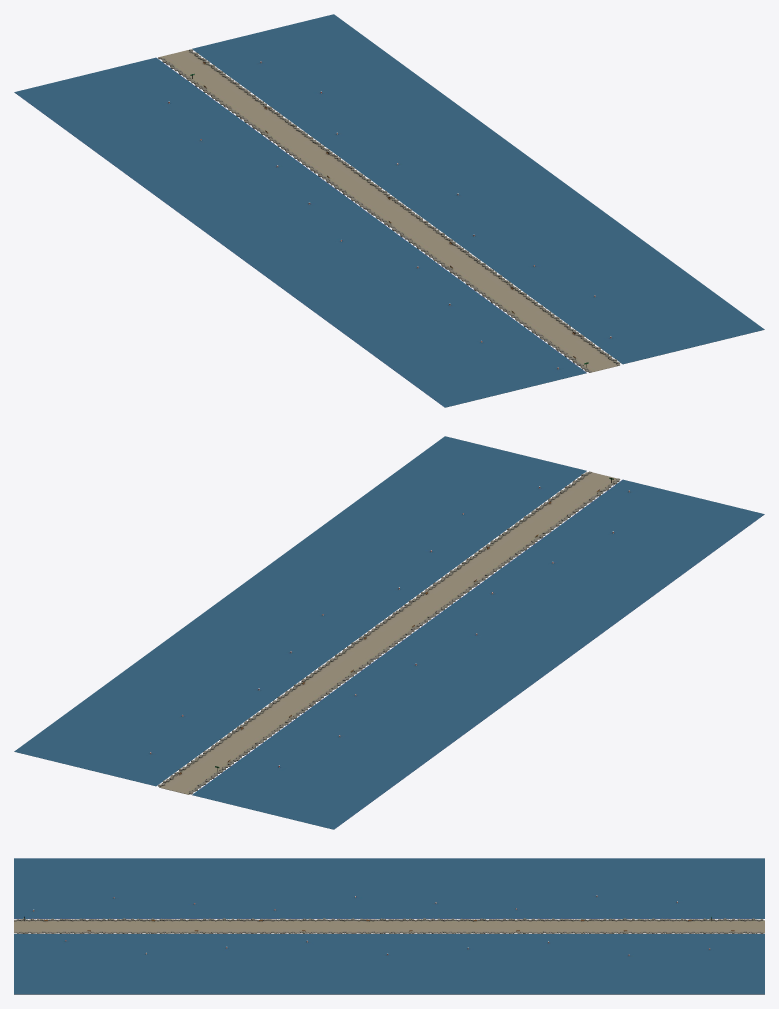
The model's file is causeway_champlain.glb.
The picture shows the model from 3 angles, top to bottom: view 1: azimuth 30°, elevation 25°; view 2: azimuth 150°, elevation 25°; view 3: azimuth 270°, elevation 25°; orthographic projection. The views are drawn at different scales.
Parts seen in each view (by area): view 1: causeway_champlain; view 2: causeway_champlain; view 3: causeway_champlain.
Part boxes in pixels (left/top/right/bottom): causeway_champlain: left=14, top=14, right=764, bottom=407; causeway_champlain: left=14, top=436, right=764, bottom=829; causeway_champlain: left=14, top=858, right=764, bottom=994.
Bounding box in the file's own units: 180 × 2.8 × 420.
1 material, 1 textured.
